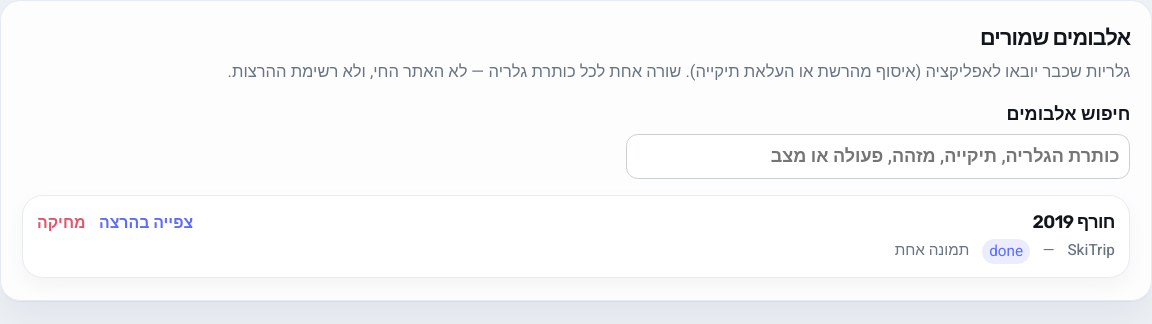
it: AlbumLibrary › shows missing dates and no-match search copy
Expected: the text "חורף 2019" is shown, [1032, 211, 1115, 233]
Type "zzzz" into the search field labelled "חיפוש אלבומים" at coordinates (878, 156), box [626, 134, 1130, 179]
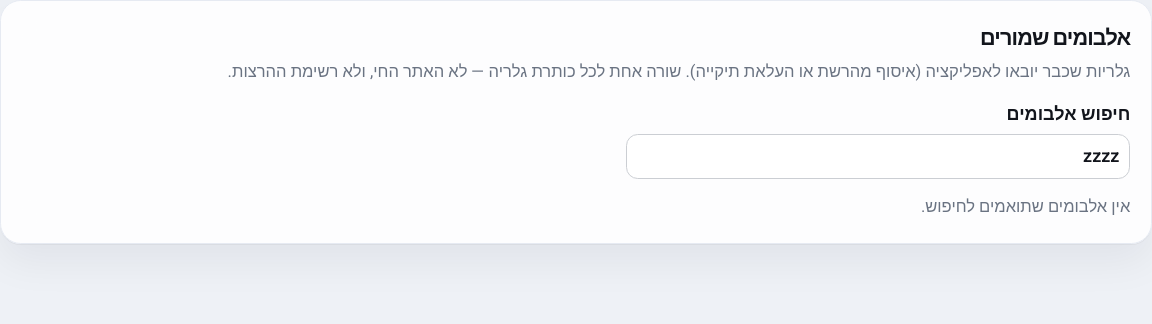
Expected: the text "אין אלבומים שתואמים לחיפוש." is shown, [921, 195, 1130, 219]
